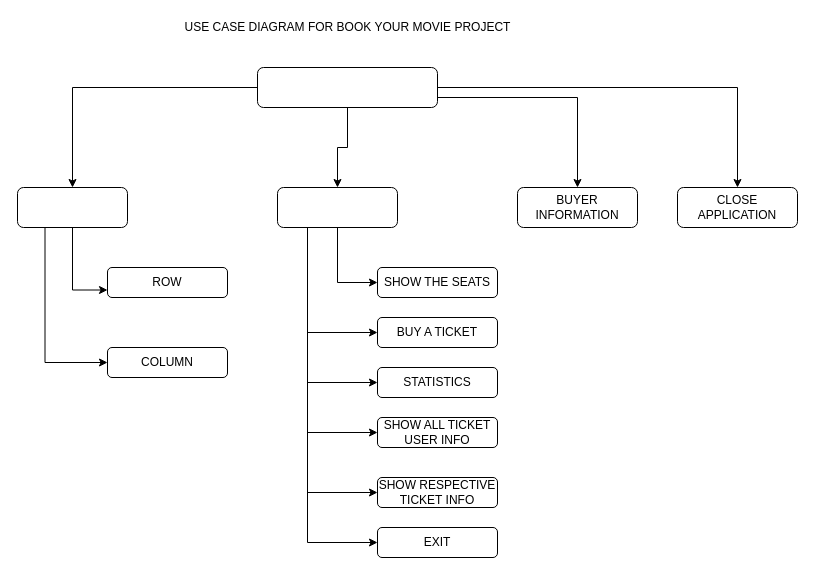
This 815x575 diagram has some shape labels left out. The box of each missing label's shape, as (x1, y1, x2, y2) in pixels:
CINEMA SETUP: (16, 186, 128, 228)
GO TO MENU: (276, 186, 398, 228)
RUN THE MAIN FILE: (256, 66, 438, 108)
